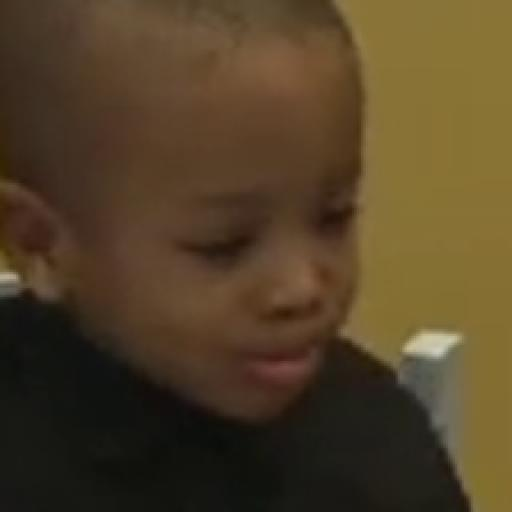Autism: (27, 9, 512, 430)
